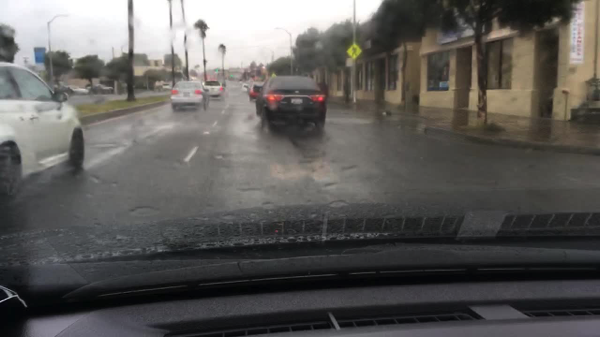car: (0, 59, 86, 199), (255, 74, 328, 133), (170, 81, 210, 113), (249, 80, 266, 103), (202, 81, 224, 98), (69, 84, 92, 96), (92, 85, 115, 94), (241, 81, 249, 92), (161, 84, 171, 91)
person: (52, 79, 74, 97)
traffic light: (214, 68, 218, 73)
traffic sign: (346, 44, 363, 60), (34, 47, 47, 64)
